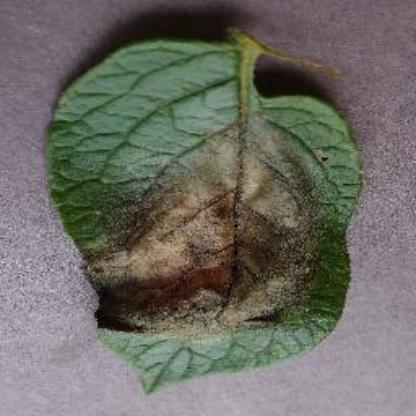Late-Blight: (46, 27, 372, 394)
